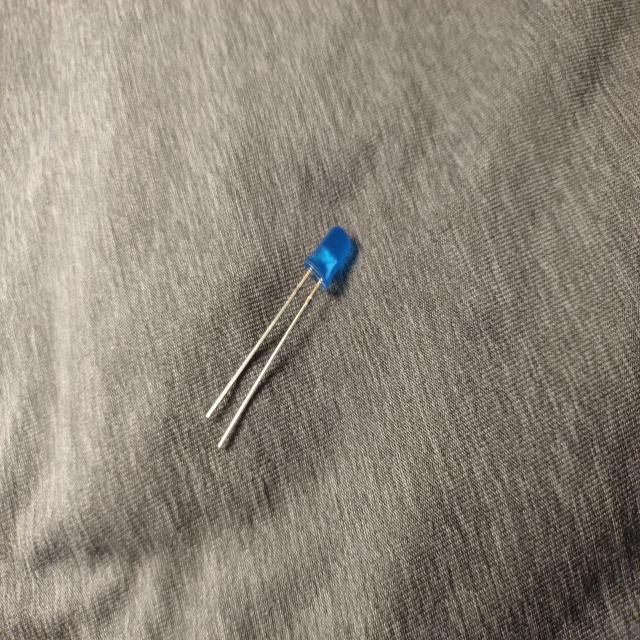blue_led: (204, 224, 356, 450)
